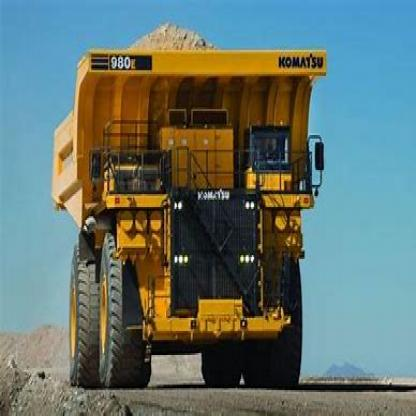dump_truck: (46, 24, 320, 390)
